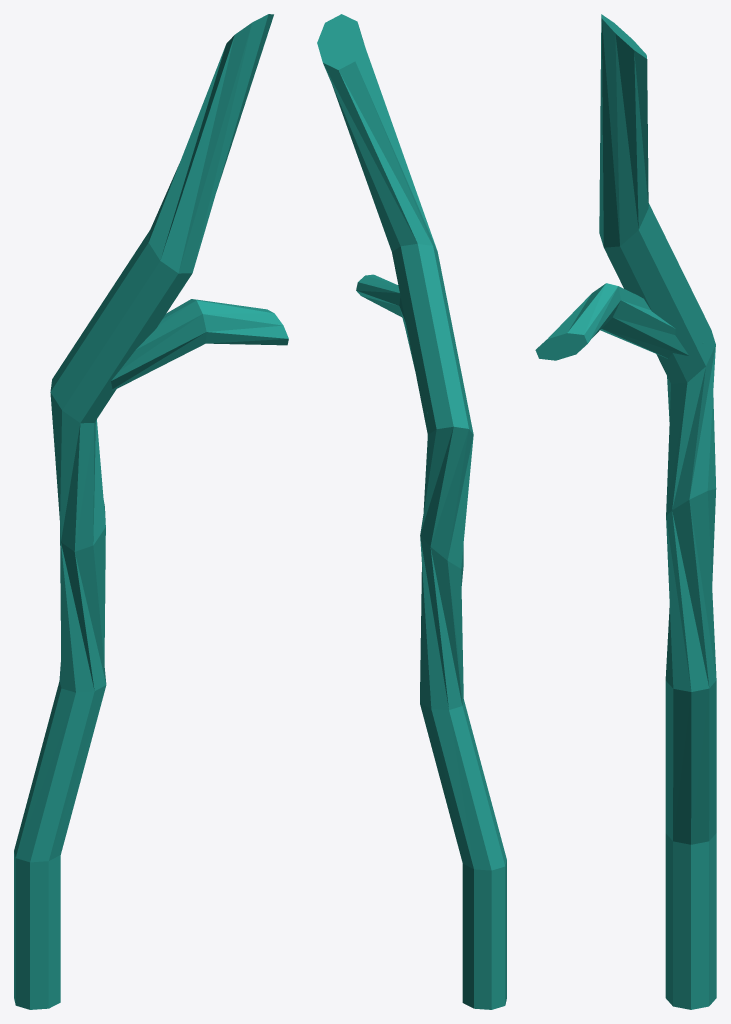
The model's file is handmade_3.obj.
3 views of the same model, side by side, from view 1: azimuth 30°, elevation 25°; view 2: azimuth 150°, elevation 25°; view 3: azimuth 270°, elevation 25° (orthographic). The views are drawn at different scales.
Visible parts, largest first — view 1: model; view 2: model; view 3: model.
Boxes of the visible parts, x1,y1,x2,y2 form: model: (14,14,288,1009); model: (317,14,506,1009); model: (535,14,716,1009).
Bounding box in the file's own units: 0.4207 × 1.73 × 0.2626.
